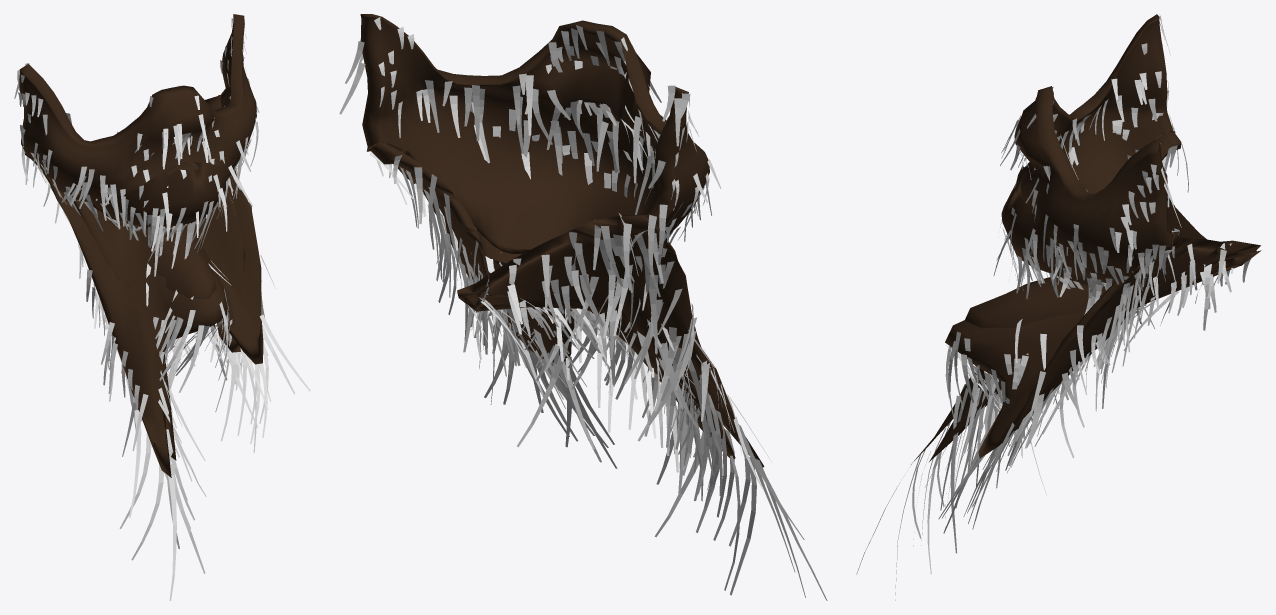
File: beard-runekeeper-forked.glb
3 views of the same model, side by side, from view 1: azimuth 30°, elevation 25°; view 2: azimuth 150°, elevation 25°; view 3: azimuth 270°, elevation 25° (orthographic). The views are drawn at different scales.
Visible parts, largest first — view 1: beard-runekeeper-forked_1, beard__strands; view 2: beard-runekeeper-forked_1, beard__strands; view 3: beard-runekeeper-forked_1, beard__strands.
Part boxes in pixels (left/top/right/bottom): beard-runekeeper-forked_1: left=19, top=14, right=263, bottom=477; beard__strands: left=14, top=18, right=310, bottom=600; beard-runekeeper-forked_1: left=360, top=14, right=764, bottom=467; beard__strands: left=339, top=17, right=827, bottom=600; beard-runekeeper-forked_1: left=911, top=14, right=1261, bottom=464; beard__strands: left=856, top=14, right=1250, bottom=600.
Bounding box in the file's own units: 0.1586 × 0.2954 × 0.1979.
